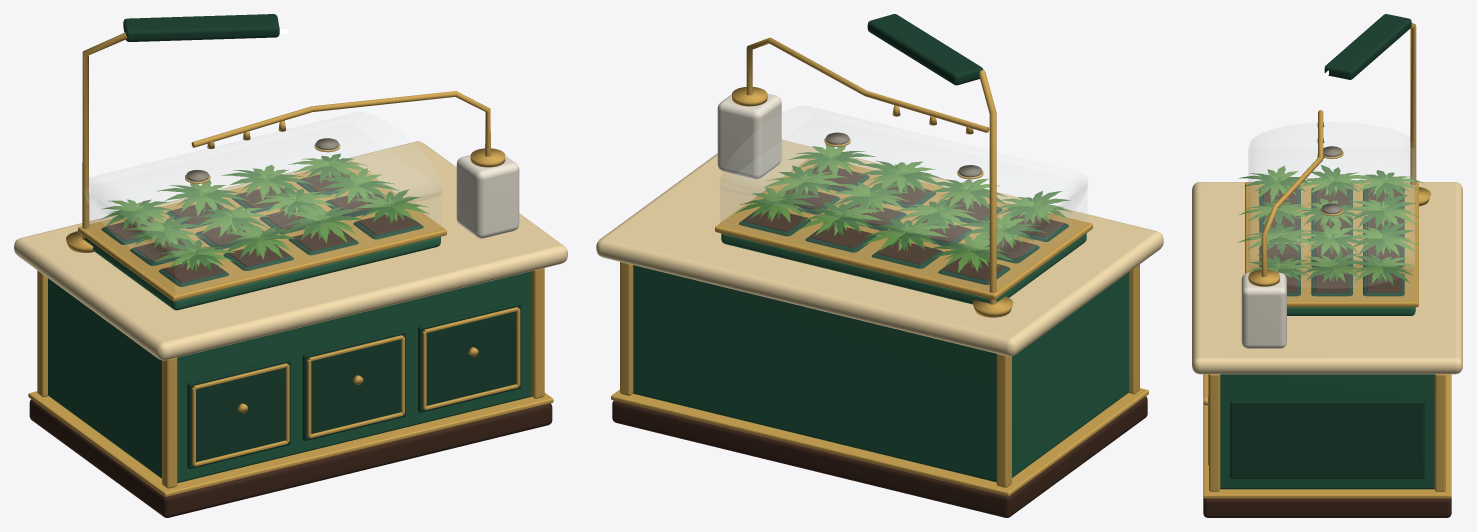
File: seeds_bench_tier4.glb
3 views of the same model, side by side, from view 1: azimuth 30°, elevation 25°; view 2: azimuth 150°, elevation 25°; view 3: azimuth 270°, elevation 25° (orthographic). The views are drawn at different scales.
Visible parts, largest first — view 1: Top, Body, DomeLid, DomeWalls, Plinth, DomeRim, Panel2, Panel1, Panel0, PlinthBrass, Humidifier, LampBar (+9 smaller); view 2: Body, Top, DomeLid, DomeWalls, Plinth, DomeRim, PlinthBrass, Humidifier, Tray, LampBar, Corner-11, MistArm (+6 smaller); view 3: Top, DomeLid, EndPanel, Body, DomeRim, Plinth, PlinthBrass, Humidifier, LampBar, DomeWalls, Corner1-1, Corner11 (+16 smaller).
Boxes of the visible parts, x1=… form: Top: x1=14, y1=141, x2=567, y2=360; Body: x1=48, y1=271, x2=531, y2=482; DomeLid: x1=85, y1=112, x2=441, y2=262; DomeWalls: x1=85, y1=190, x2=441, y2=293; Plinth: x1=29, y1=399, x2=552, y2=517; DomeRim: x1=78, y1=160, x2=446, y2=301; Panel2: x1=418, y1=302, x2=521, y2=412; Panel1: x1=302, y1=330, x2=405, y2=440; Panel0: x1=187, y1=358, x2=290, y2=468; PlinthBrass: x1=28, y1=391, x2=553, y2=496; Humidifier: x1=456, y1=155, x2=519, y2=238; LampBar: x1=123, y1=14, x2=279, y2=41; Body: x1=633, y1=265, x2=1128, y2=482; Top: x1=596, y1=139, x2=1163, y2=356; DomeLid: x1=720, y1=106, x2=1087, y2=250; DomeWalls: x1=721, y1=186, x2=1086, y2=290; Plinth: x1=612, y1=396, x2=1147, y2=517; DomeRim: x1=715, y1=158, x2=1092, y2=299; PlinthBrass: x1=611, y1=388, x2=1148, y2=496; Humidifier: x1=717, y1=93, x2=781, y2=179; Tray: x1=721, y1=233, x2=1086, y2=304; LampBar: x1=867, y1=14, x2=983, y2=85; Corner-11: x1=996, y1=354, x2=1011, y2=487; MistArm: x1=746, y1=37, x2=989, y2=132; Top: x1=1192, y1=182, x2=1462, y2=374; DomeLid: x1=1249, y1=122, x2=1414, y2=287; EndPanel: x1=1230, y1=400, x2=1424, y2=478; Body: x1=1220, y1=374, x2=1434, y2=489; DomeRim: x1=1245, y1=182, x2=1418, y2=307; Plinth: x1=1203, y1=498, x2=1451, y2=517; PlinthBrass: x1=1203, y1=374, x2=1451, y2=498; Humidifier: x1=1241, y1=272, x2=1286, y2=348; LampBar: x1=1324, y1=14, x2=1411, y2=79; DomeWalls: x1=1249, y1=266, x2=1414, y2=300; Corner1-1: x1=1209, y1=374, x2=1220, y2=491; Corner11: x1=1434, y1=374, x2=1445, y2=491.
Size of the model in its own units: 1.9 by 1.77 by 1.2.
